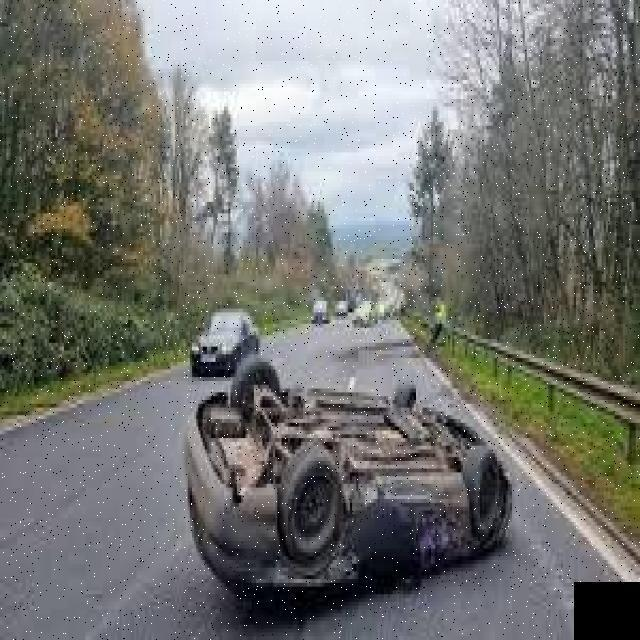single accident: (153, 352, 528, 615)
